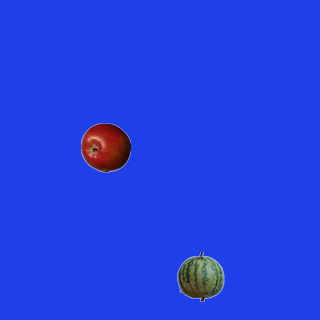Apple Braeburn: (80, 122, 130, 172)
Watermelon: (175, 251, 225, 301)
